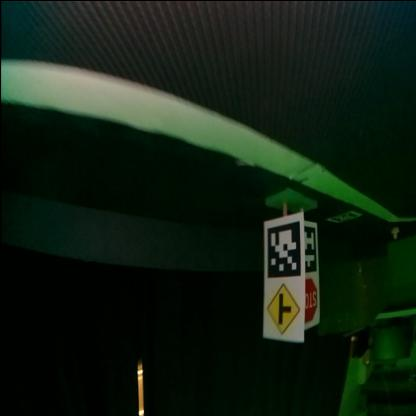Duckie: (391, 227, 399, 239)
Intersection sign: (266, 284, 300, 334)
QR code: (266, 221, 300, 276), (304, 224, 316, 271), (328, 212, 362, 222)
Stop sign: (304, 278, 318, 324)
